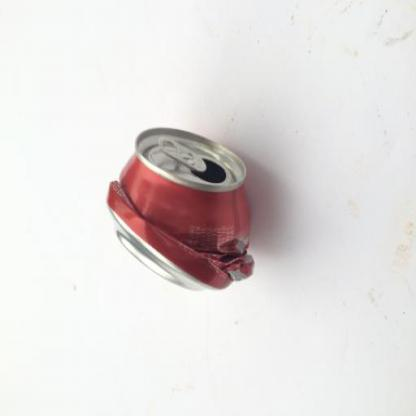METAL: (104, 126, 254, 294)
